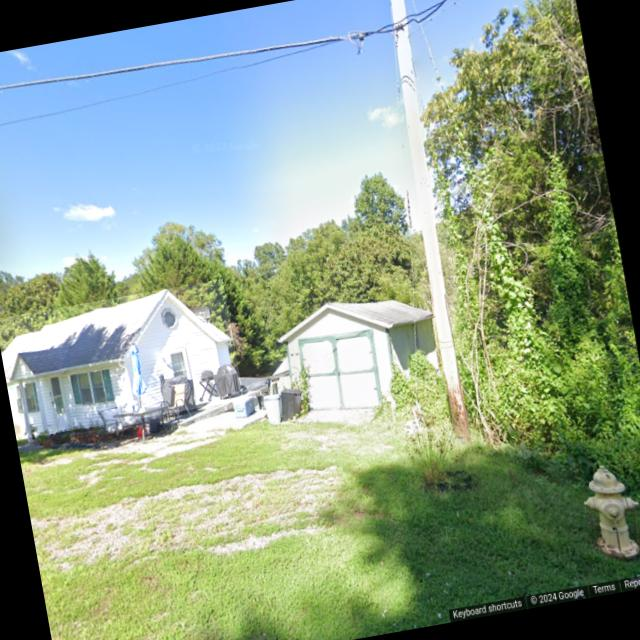House: (0, 278, 243, 439)
